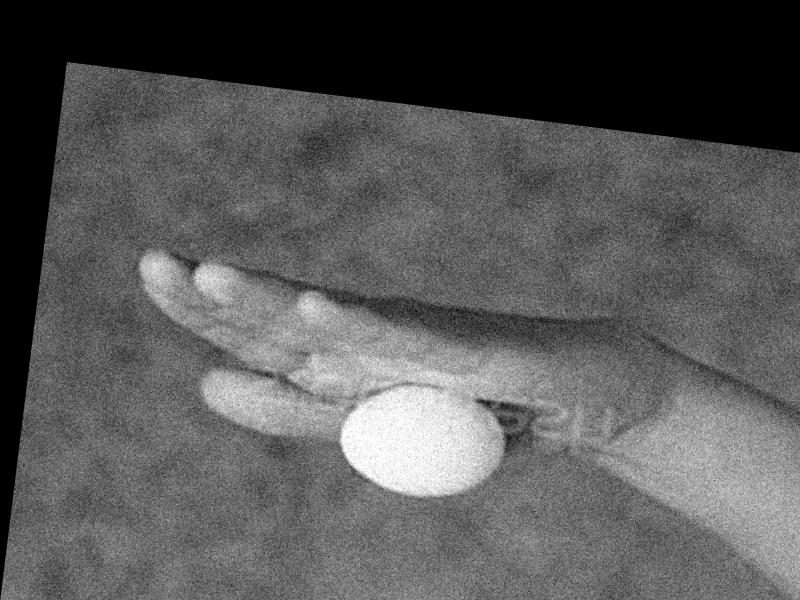Eggs: (334, 376, 511, 509)
